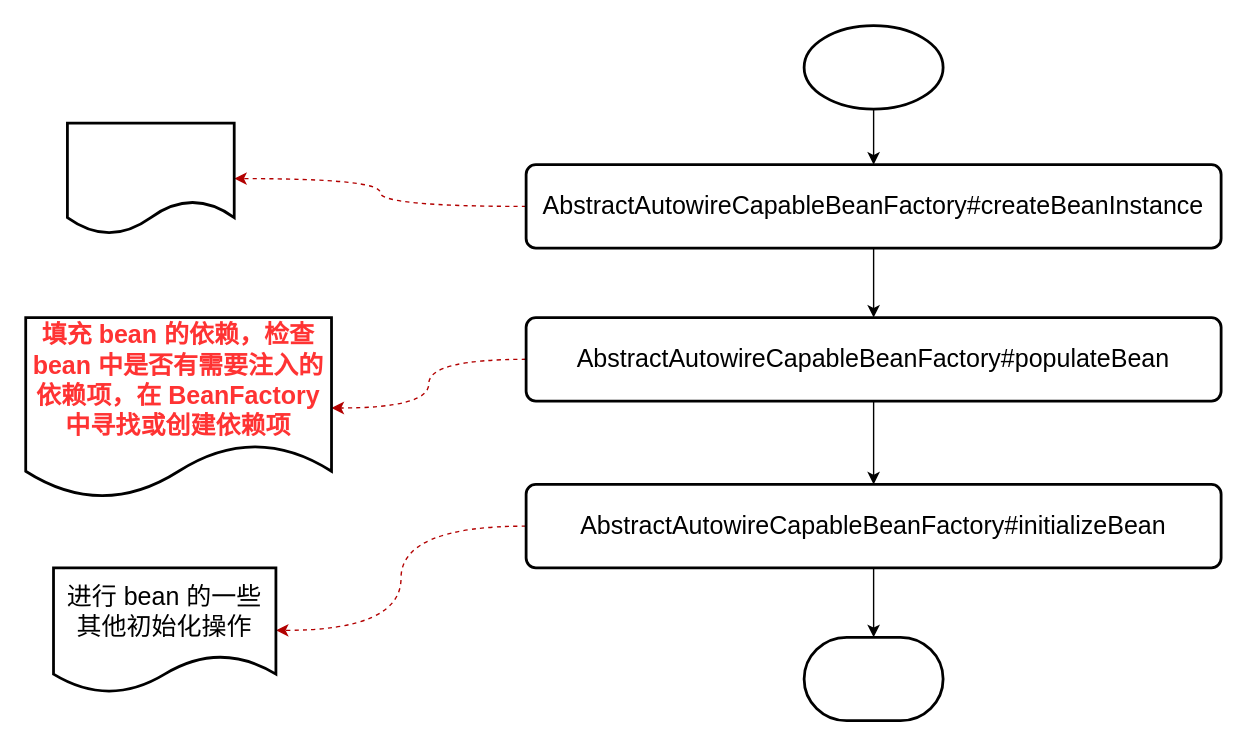
Some shapes in this 1245 by 745 pixel diagram are drawn without their labels. Here are the shapes that lost their labels. From the top down, the centre of each, then its label:
pixel 873 67: createBean
pixel 150 178: 创建bean的实例对象
pixel 873 678: return bean
